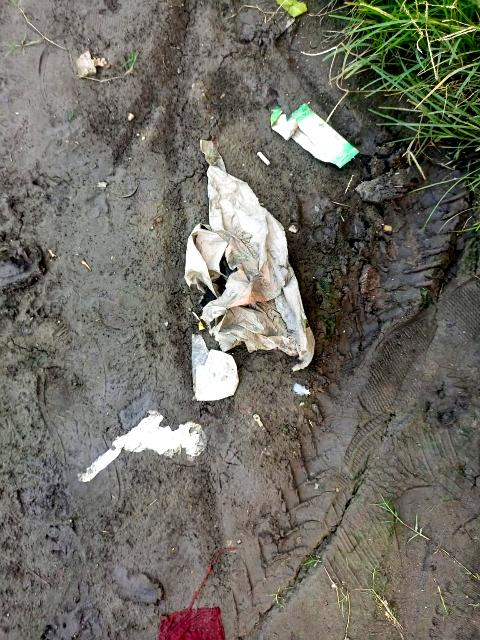polythene: (104, 115, 347, 424)
